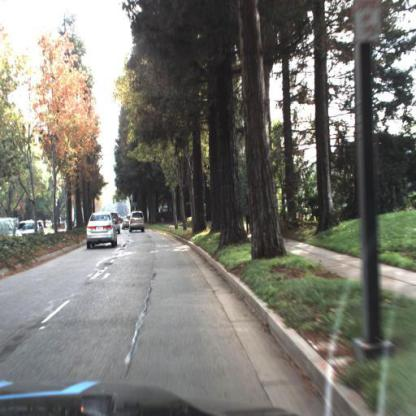car: (85, 210, 119, 250), (16, 219, 44, 240), (130, 209, 148, 236), (126, 212, 135, 233)
